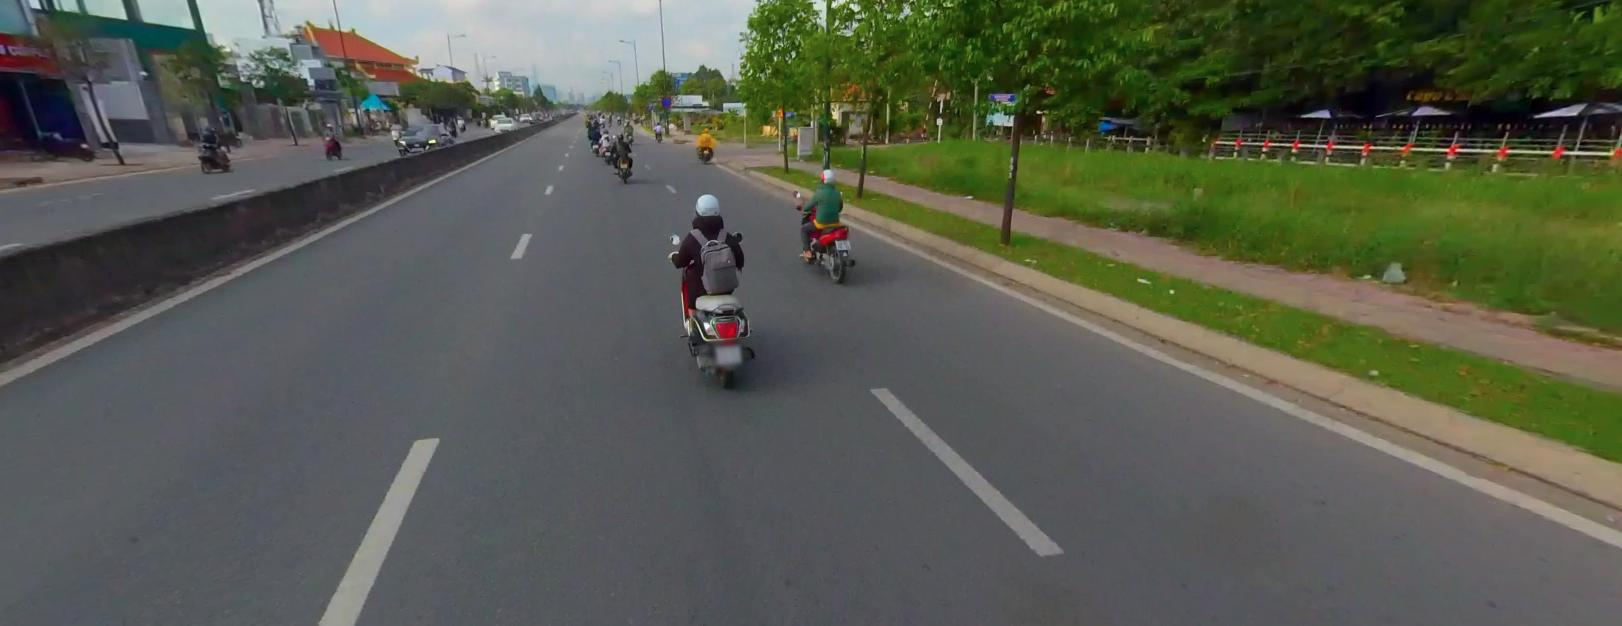Cam dung va do: (662, 97, 670, 106)
